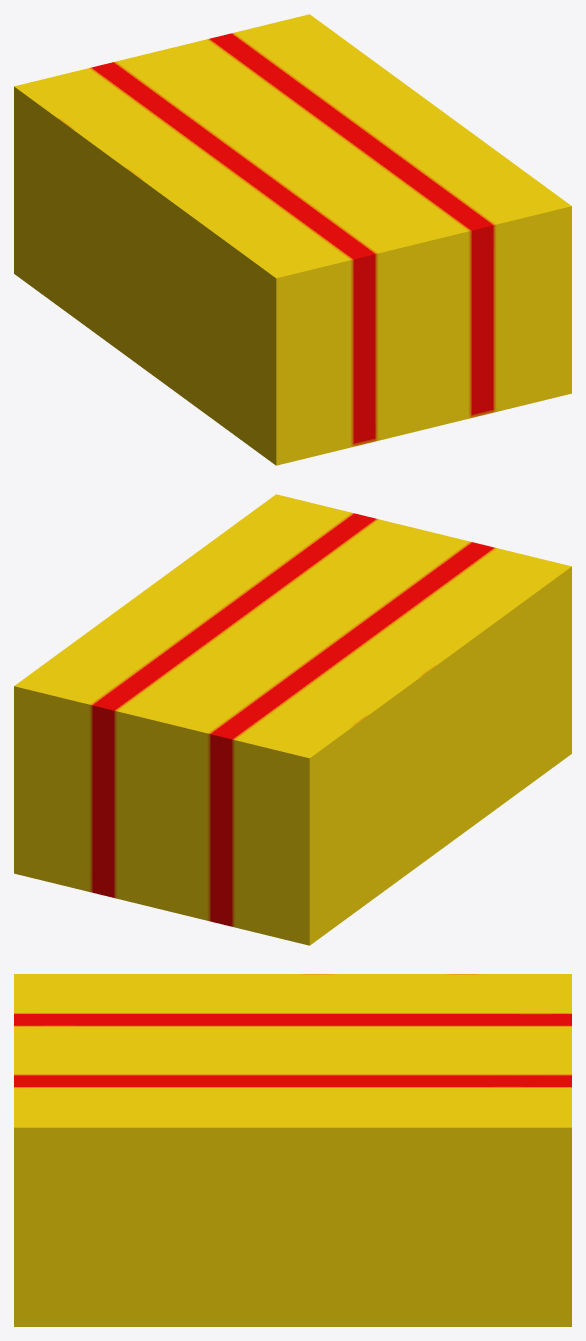
Rendered from HayBale.glb.
The picture shows the model from 3 angles, top to bottom: view 1: azimuth 30°, elevation 25°; view 2: azimuth 150°, elevation 25°; view 3: azimuth 270°, elevation 25°; orthographic projection. The views are drawn at different scales.
Visible parts, largest first — view 1: HayBale; view 2: HayBale; view 3: HayBale.
Part boxes in pixels (x1,y1,x2,y2): HayBale: [14, 14, 571, 465]; HayBale: [14, 494, 571, 945]; HayBale: [14, 974, 571, 1326].
Size of what is drawn, in the model's own units: 1.22 by 0.7389 by 1.87.
1 material, 1 textured.
